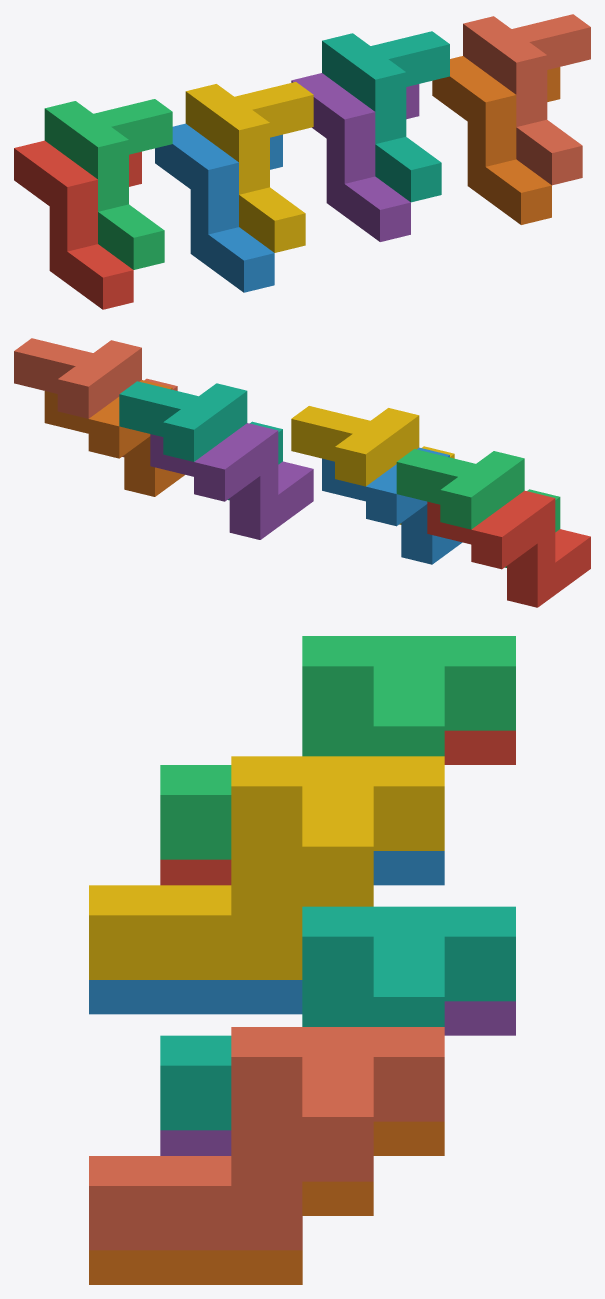
Rendered from tiling.obj.
The picture shows the model from 3 angles, top to bottom: view 1: azimuth 30°, elevation 25°; view 2: azimuth 150°, elevation 25°; view 3: azimuth 270°, elevation 25°; orthographic projection. The views are drawn at different scales.
Visible parts, largest first — view 1: copy_1_domain_7, copy_1_domain_8, copy_1_domain_4, copy_1_domain_3, copy_1_domain_1, copy_1_domain_6, copy_1_domain_2, copy_1_domain_5; view 2: copy_1_domain_5, copy_1_domain_1, copy_1_domain_3, copy_1_domain_7, copy_1_domain_4, copy_1_domain_8, copy_1_domain_6, copy_1_domain_2; view 3: copy_1_domain_8, copy_1_domain_4, copy_1_domain_7, copy_1_domain_3, copy_1_domain_6, copy_1_domain_2, copy_1_domain_1, copy_1_domain_5.
Boxes of the visible parts, x1,y1,x2,y2 form: copy_1_domain_7: [322, 31, 449, 202]; copy_1_domain_8: [463, 14, 590, 185]; copy_1_domain_4: [185, 82, 313, 252]; copy_1_domain_3: [44, 99, 172, 269]; copy_1_domain_1: [14, 140, 141, 309]; copy_1_domain_6: [432, 56, 560, 224]; copy_1_domain_2: [155, 123, 282, 292]; copy_1_domain_5: [291, 73, 419, 241]; copy_1_domain_5: [150, 423, 313, 539]; copy_1_domain_1: [427, 490, 590, 607]; copy_1_domain_3: [396, 449, 560, 567]; copy_1_domain_7: [119, 381, 282, 500]; copy_1_domain_4: [291, 406, 454, 524]; copy_1_domain_8: [14, 338, 177, 457]; copy_1_domain_6: [44, 380, 184, 496]; copy_1_domain_2: [322, 447, 462, 564]; copy_1_domain_8: [89, 1027, 444, 1250]; copy_1_domain_4: [89, 756, 444, 979]; copy_1_domain_7: [160, 906, 515, 1130]; copy_1_domain_3: [160, 636, 515, 859]; copy_1_domain_6: [89, 1121, 444, 1284]; copy_1_domain_2: [89, 851, 444, 1014]; copy_1_domain_1: [160, 730, 515, 885]; copy_1_domain_5: [160, 1001, 515, 1155].
Bounding box in the file's own units: 17 × 4 × 6.
